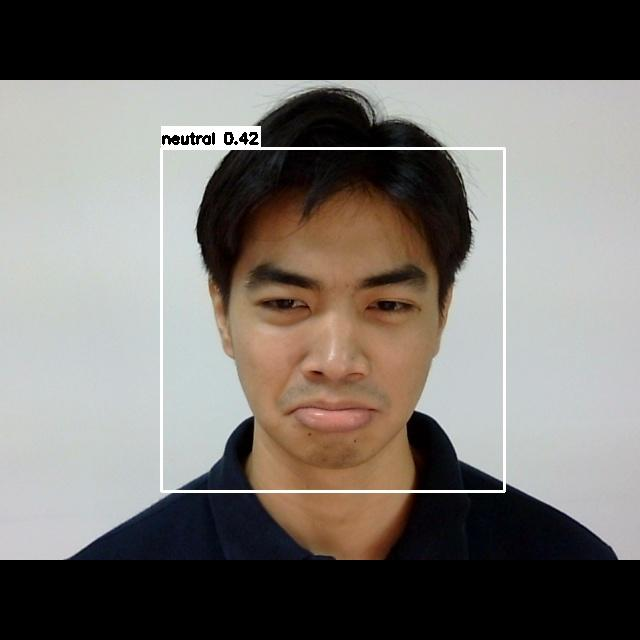Sad: (219, 246, 440, 446)
